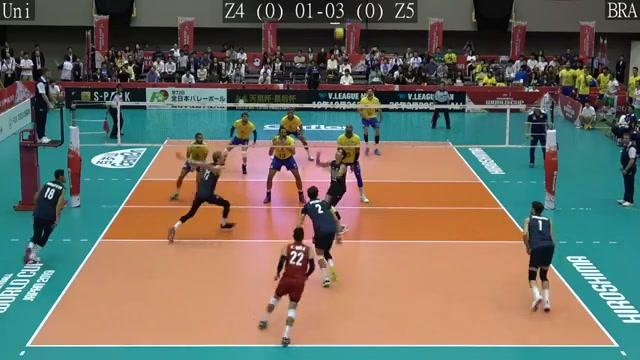ball: (334, 27, 345, 38)
